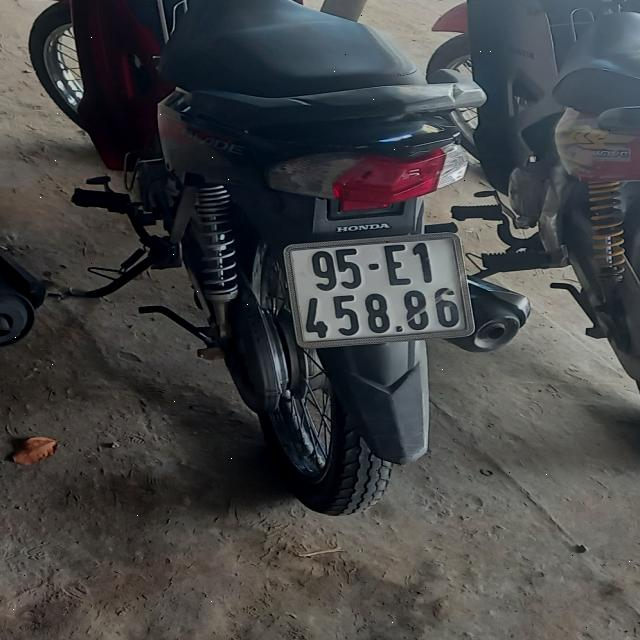1: (412, 242, 435, 284)
4: (304, 297, 329, 338)
5: (336, 247, 364, 291), (332, 294, 360, 338)
6: (435, 286, 461, 330)
8: (404, 290, 433, 332), (364, 292, 392, 334)
9: (309, 250, 339, 292)
E: (384, 244, 414, 287)
